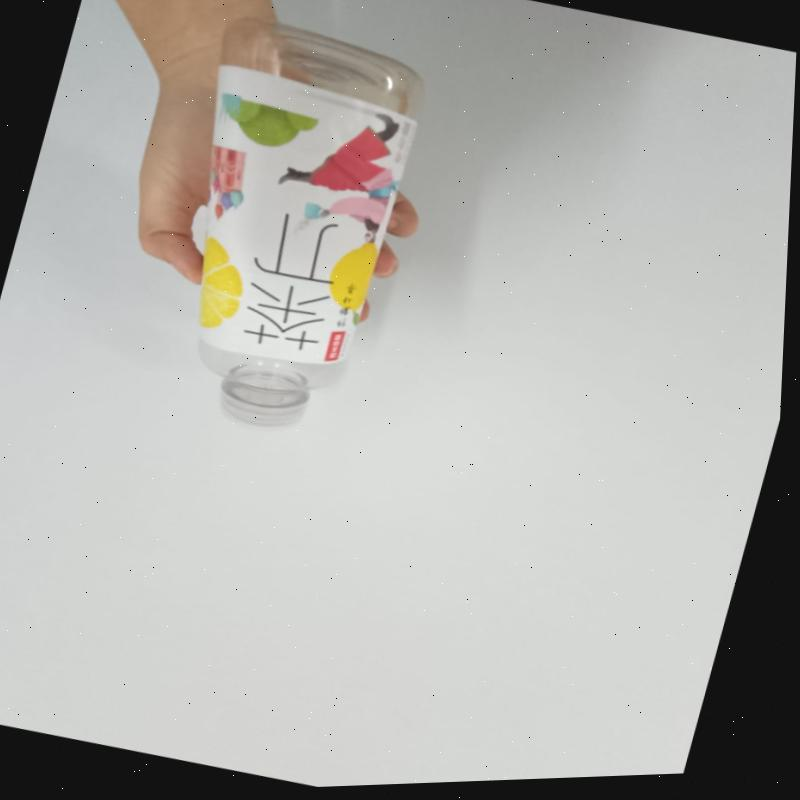botella: (116, 0, 454, 466)
